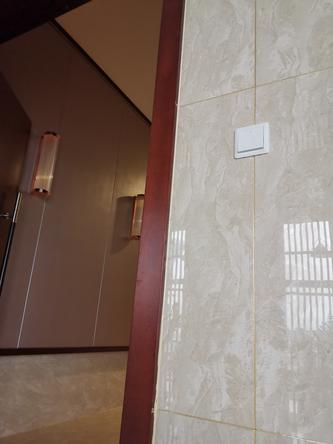switch: (235, 124, 265, 152)
